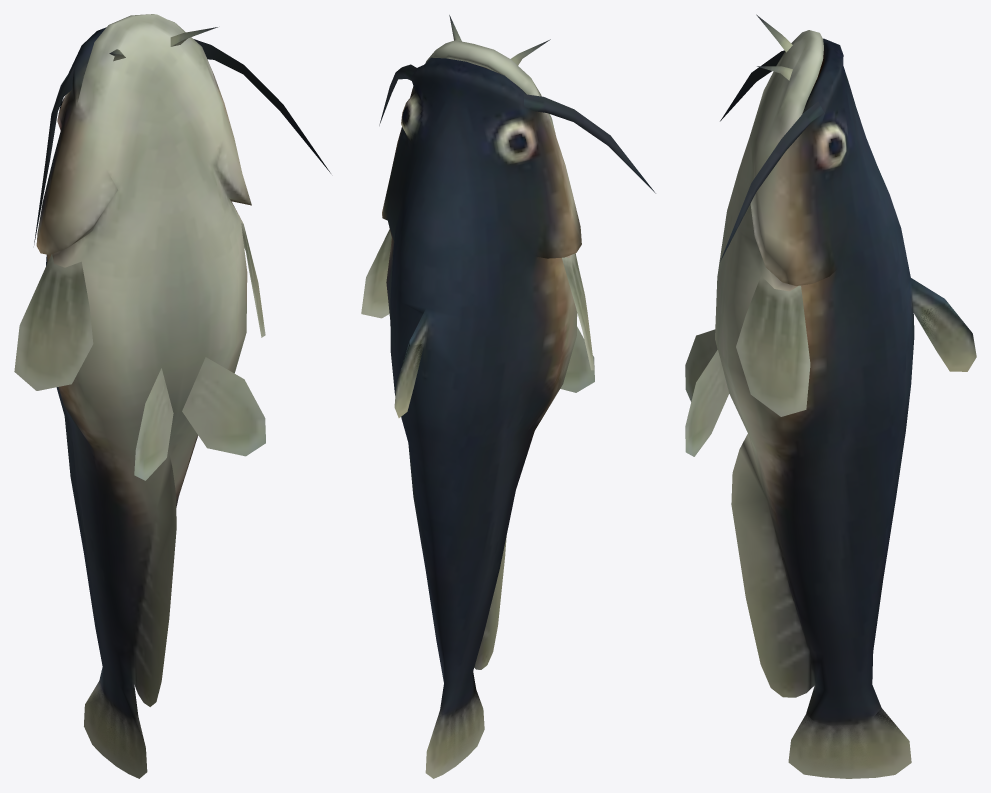
File: catfish.glb
3 renders of one model, left to right at view 1: azimuth 30°, elevation 25°; view 2: azimuth 150°, elevation 25°; view 3: azimuth 270°, elevation 25°, orthographic. The views are drawn at different scales.
Visible parts, largest first — view 1: FishNamazu_node6; view 2: FishNamazu_node6; view 3: FishNamazu_node6.
Boxes of the visible parts, box(x1,y1,x2,y2) form: FishNamazu_node6: box(14, 14, 330, 778); FishNamazu_node6: box(361, 15, 655, 778); FishNamazu_node6: box(685, 14, 976, 778).
Size of the model in its own units: 3.45 by 8.42 by 3.
Materials: 1 (1 with a texture image).
